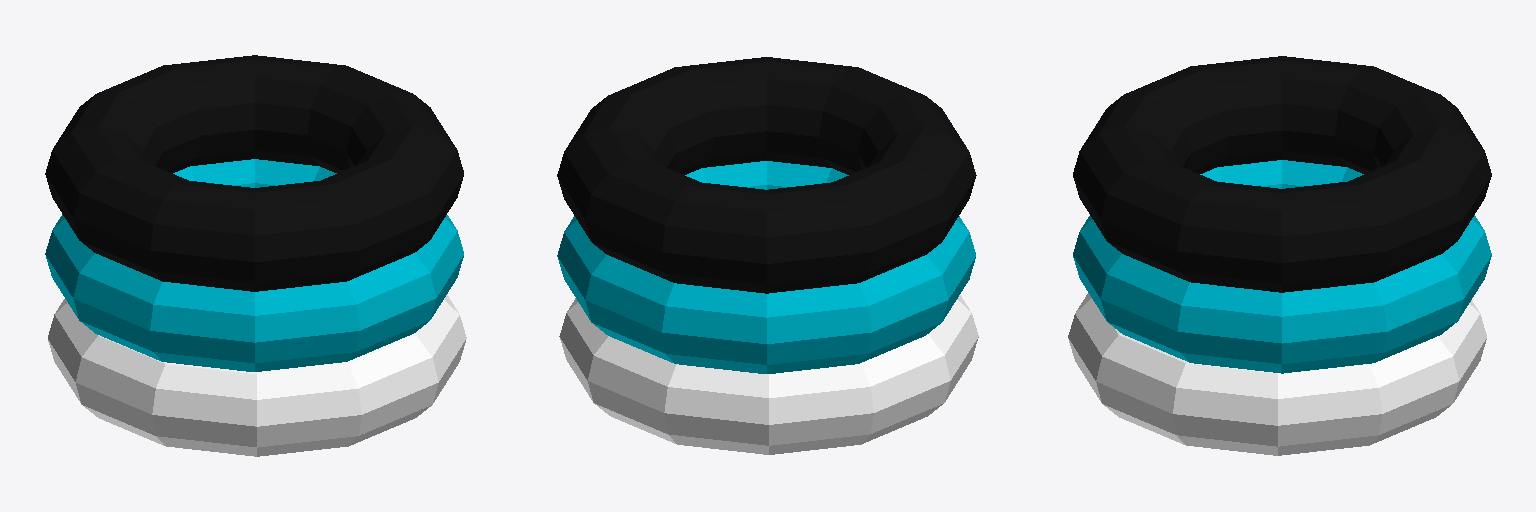
3 renders of one model, left to right at view 1: azimuth 30°, elevation 25°; view 2: azimuth 150°, elevation 25°; view 3: azimuth 270°, elevation 25°, orthographic.
Parts seen in each view (by area): view 1: group[number redacted], group[number redacted], group[number redacted]; view 2: group[number redacted], group[number redacted], group[number redacted]; view 3: group[number redacted], group[number redacted], group[number redacted].
Part boxes in pixels (x1,y1,x2,y2): group[number redacted]: (45, 55, 463, 291); group[number redacted]: (45, 159, 463, 371); group[number redacted]: (48, 295, 466, 456); group[number redacted]: (557, 57, 976, 293); group[number redacted]: (557, 161, 975, 373); group[number redacted]: (559, 295, 978, 454); group[number redacted]: (1073, 56, 1491, 292); group[number redacted]: (1073, 160, 1491, 373); group[number redacted]: (1068, 293, 1486, 455).
Bounding box in the file's own units: 0.9 × 0.61 × 0.91.